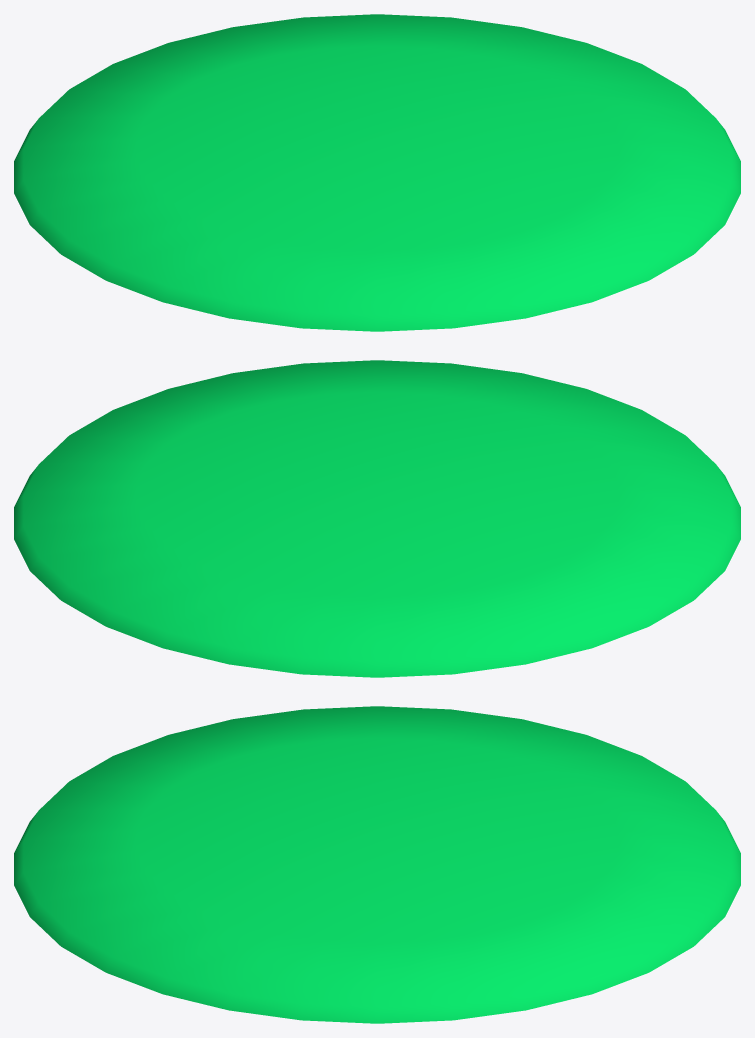
The model's file is switchdown_fbx.fbx.
The picture shows the model from 3 angles, top to bottom: view 1: azimuth 30°, elevation 25°; view 2: azimuth 150°, elevation 25°; view 3: azimuth 270°, elevation 25°; orthographic projection.
Parts seen in each view (by area): view 1: switchdown; view 2: switchdown; view 3: switchdown.
Boxes of the visible parts, left/top/right/bottom form: switchdown: left=14, top=14, right=740, bottom=331; switchdown: left=14, top=360, right=740, bottom=677; switchdown: left=14, top=706, right=740, bottom=1023.
Bounding box in the file's own units: 52.51 × 3.31 × 52.22.
